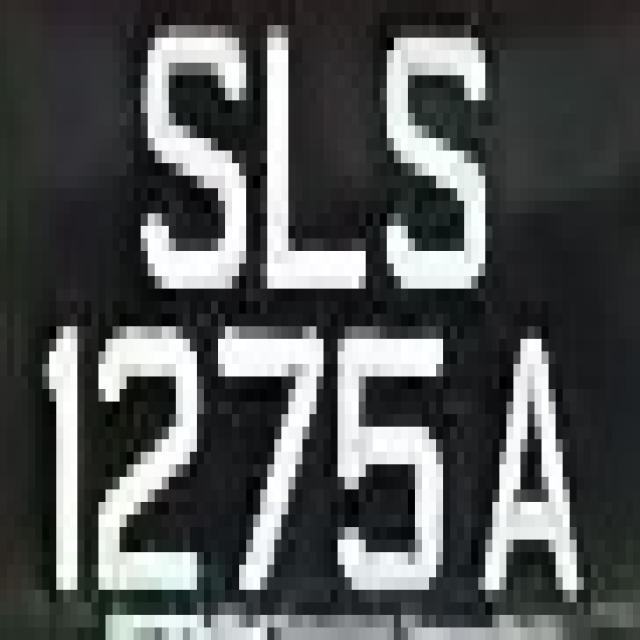1: (21, 263, 105, 640)
2: (77, 276, 211, 590)
5: (331, 288, 450, 628)
7: (190, 238, 337, 602)
A: (471, 314, 605, 627)
L: (211, 25, 373, 326)
S: (113, 12, 246, 314), (352, 50, 492, 326)
